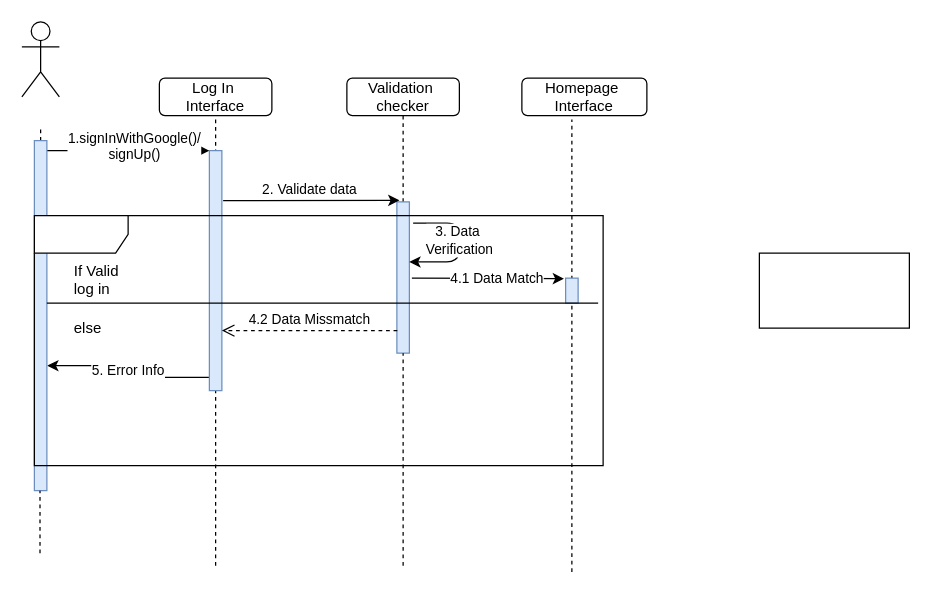
The diagram is 931 pixels wide and 595 high, and some of its shapes have lost their labels. The shapes that lost their labels are listed below. From the top down, each one's centre as x and y in pixels, then its label:
At (x=40, y=59): "User".
At (x=833, y=290): "U1 , U10".
